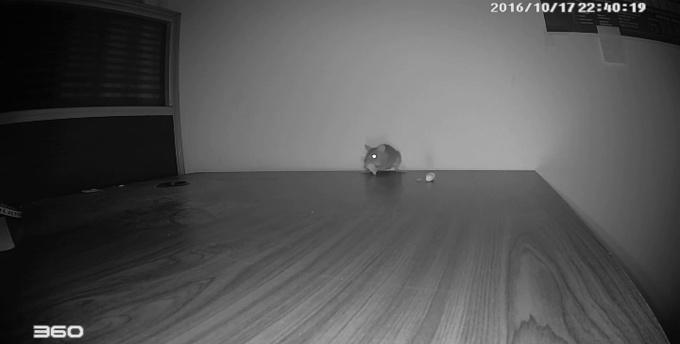rat: (360, 141, 403, 172)
